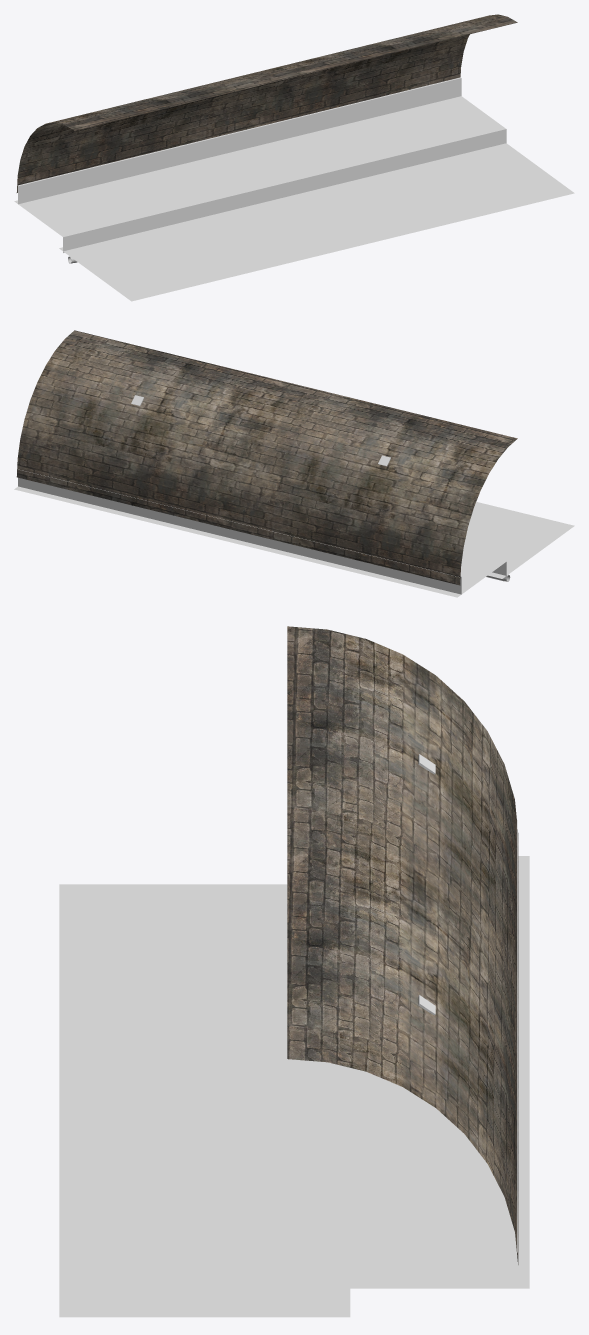
Rendered from sewerrrrr fixed finish.fbx.
3 renders of one model, top to bottom at view 1: azimuth 30°, elevation 25°; view 2: azimuth 150°, elevation 25°; view 3: azimuth 270°, elevation 25°, orthographic. The views are drawn at different scales.
Parts seen in each view (by area): view 1: Sewer_merged-81_m, Cylinder, Sewer_merged-75_m; view 2: Cylinder, Sewer_merged-81_m, Sewer_merged-75_m; view 3: Sewer_merged-81_m, Cylinder.
Boxes of the visible parts, x1,y1,x2,y2 form: Sewer_merged-81_m: [14, 96, 574, 301]; Cylinder: [16, 14, 517, 192]; Sewer_merged-75_m: [17, 77, 506, 252]; Cylinder: [16, 330, 517, 585]; Sewer_merged-81_m: [14, 486, 574, 597]; Sewer_merged-75_m: [18, 469, 506, 594]; Sewer_merged-81_m: [59, 856, 529, 1317]; Cylinder: [287, 626, 518, 1264].
Size of the model in its own units: 2169 by 650 by 996.
